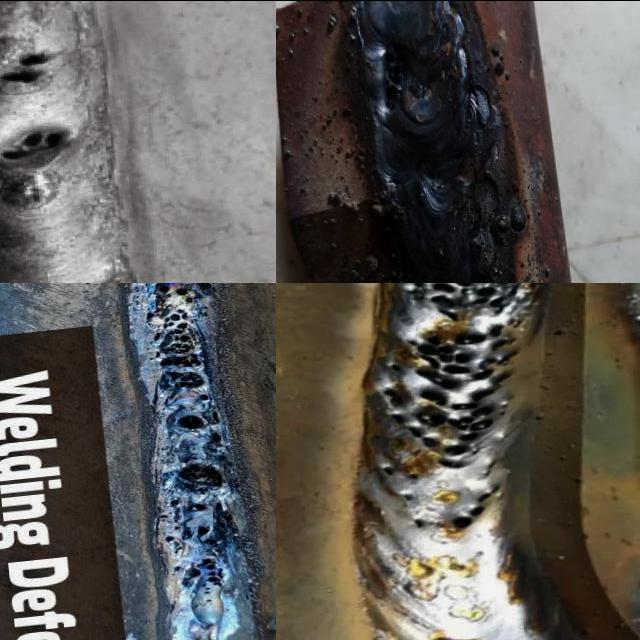defect: (374, 282, 549, 471), (144, 282, 216, 390), (0, 122, 83, 176), (0, 44, 72, 93), (171, 553, 227, 610), (446, 480, 508, 531), (174, 459, 227, 493), (382, 40, 404, 116), (212, 498, 243, 530), (179, 408, 222, 431), (195, 525, 222, 548), (408, 515, 434, 530), (185, 502, 209, 511), (381, 465, 397, 477), (399, 492, 417, 502), (210, 432, 225, 442), (407, 471, 422, 480), (172, 544, 185, 554), (199, 392, 211, 402), (156, 512, 170, 520), (171, 523, 184, 531), (169, 499, 181, 507), (165, 535, 177, 543), (218, 454, 229, 460)
